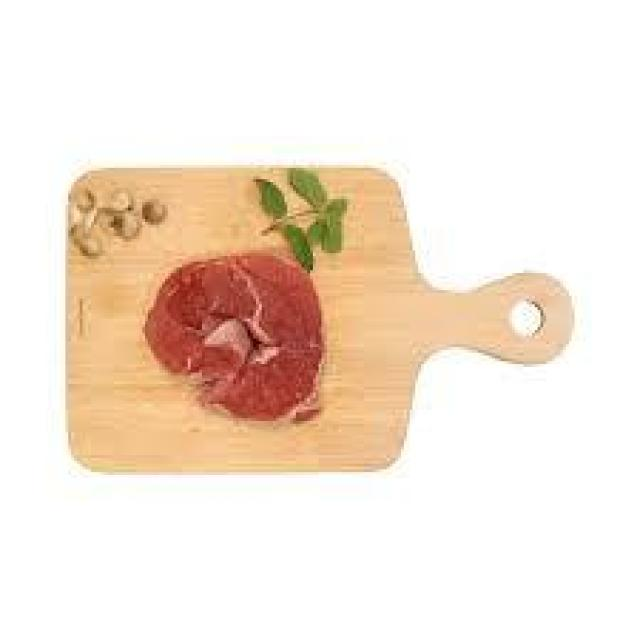Wet Waste: (137, 255, 349, 438)
